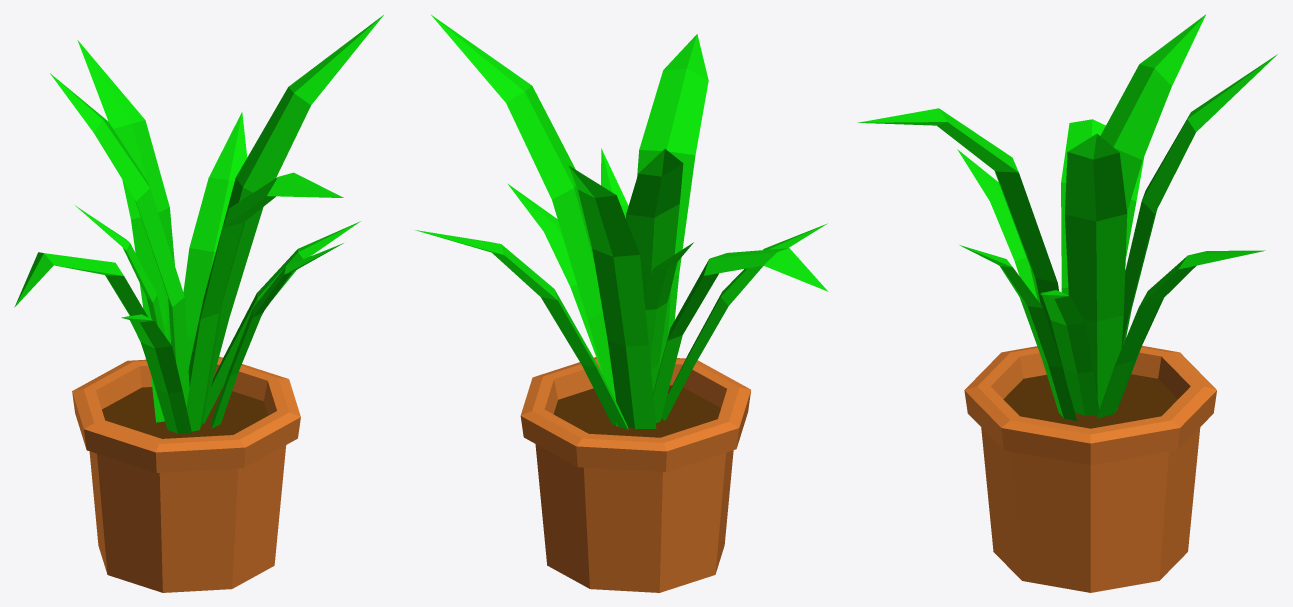
File: Plant.fbx
3 renders of one model, left to right at view 1: azimuth 30°, elevation 25°; view 2: azimuth 150°, elevation 25°; view 3: azimuth 270°, elevation 25°, orthographic. The views are drawn at different scales.
Visible parts, largest first — view 1: node-0; view 2: node-0; view 3: node-0.
Part boxes in pixels (x1,y1,x2,y2): node-0: [14, 15, 383, 592]; node-0: [415, 15, 828, 592]; node-0: [857, 14, 1277, 592].
Size of the model in its own units: 485 by 593 by 434.
